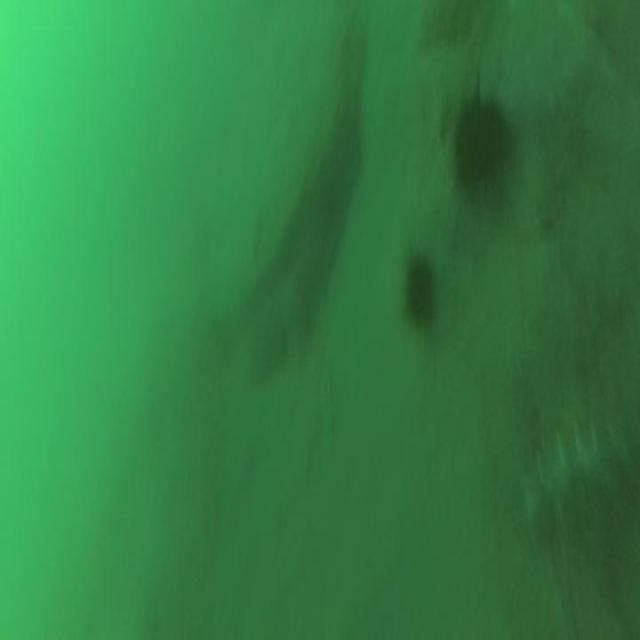echinus: (436, 65, 520, 207), (395, 229, 449, 341)
holothurian: (514, 414, 640, 551)
